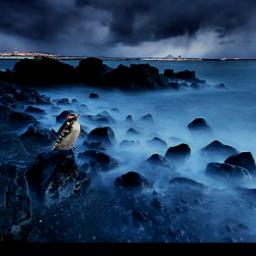Woodpecker: (51, 113, 81, 150)
